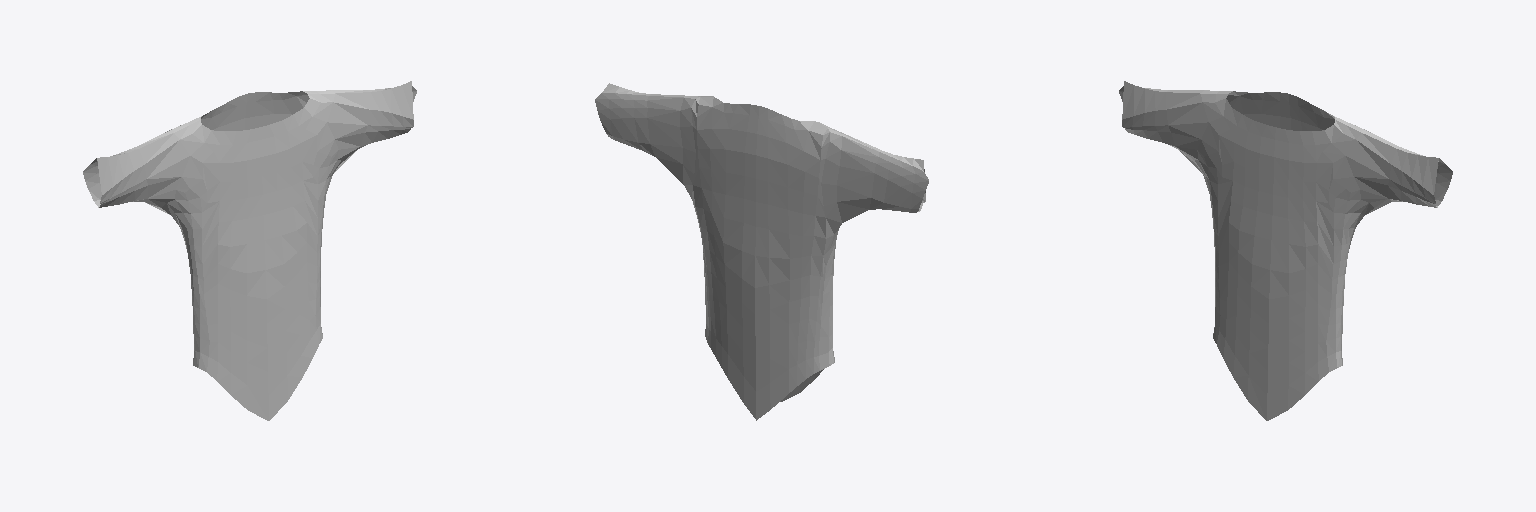
Rendered from tshirt_2.obj.
3 views of the same model, side by side, from view 1: azimuth 30°, elevation 25°; view 2: azimuth 150°, elevation 25°; view 3: azimuth 330°, elevation 25° (orthographic).
Visible parts, largest first — view 1: tshirt_base_Plane.004_tshirt_base_Plane.009; view 2: tshirt_base_Plane.004_tshirt_base_Plane.009; view 3: tshirt_base_Plane.004_tshirt_base_Plane.009.
Part boxes in pixels (left/top/right/bottom): tshirt_base_Plane.004_tshirt_base_Plane.009: left=83, top=81, right=416, bottom=420; tshirt_base_Plane.004_tshirt_base_Plane.009: left=595, top=83, right=928, bottom=420; tshirt_base_Plane.004_tshirt_base_Plane.009: left=1119, top=81, right=1452, bottom=420.
Bounding box in the file's own units: 1.2 × 1.07 × 0.1638.